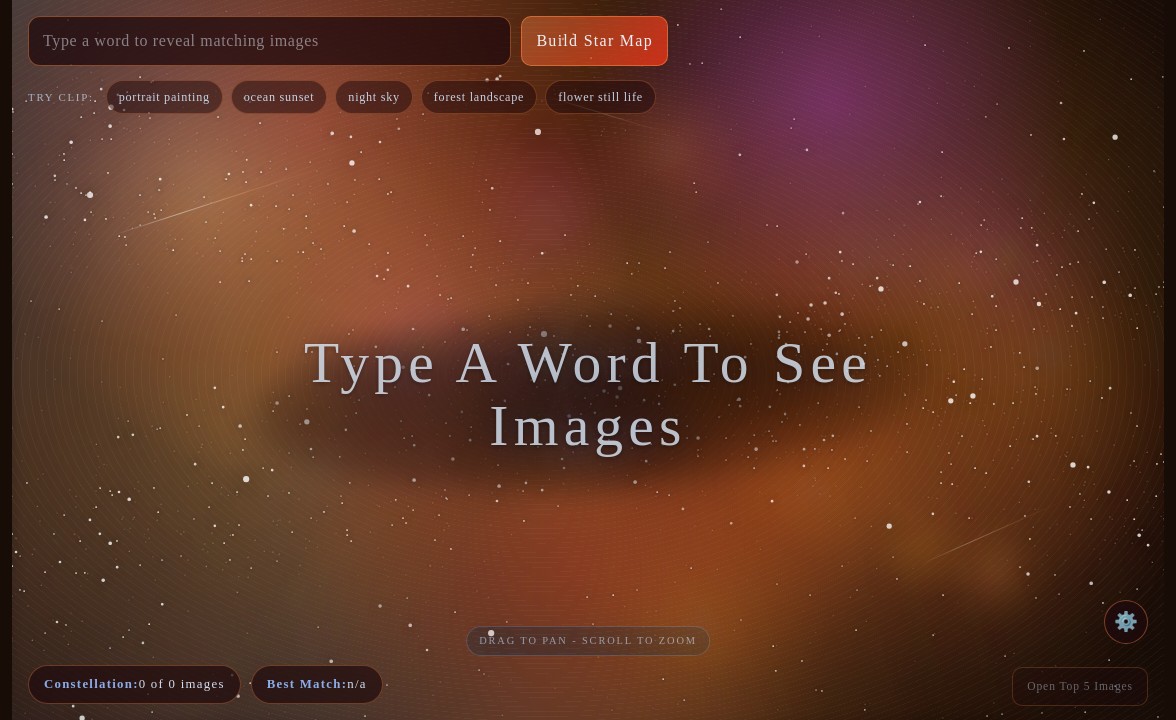
StarView weak-match notice › tells the user when nothing in the archive is close to the query
The image size is (1176, 720).
Type "a modern smartphone on a desk" into the field with placeholder "Type a word to reveal matching images" at (270, 41), box [28,16,511,66]
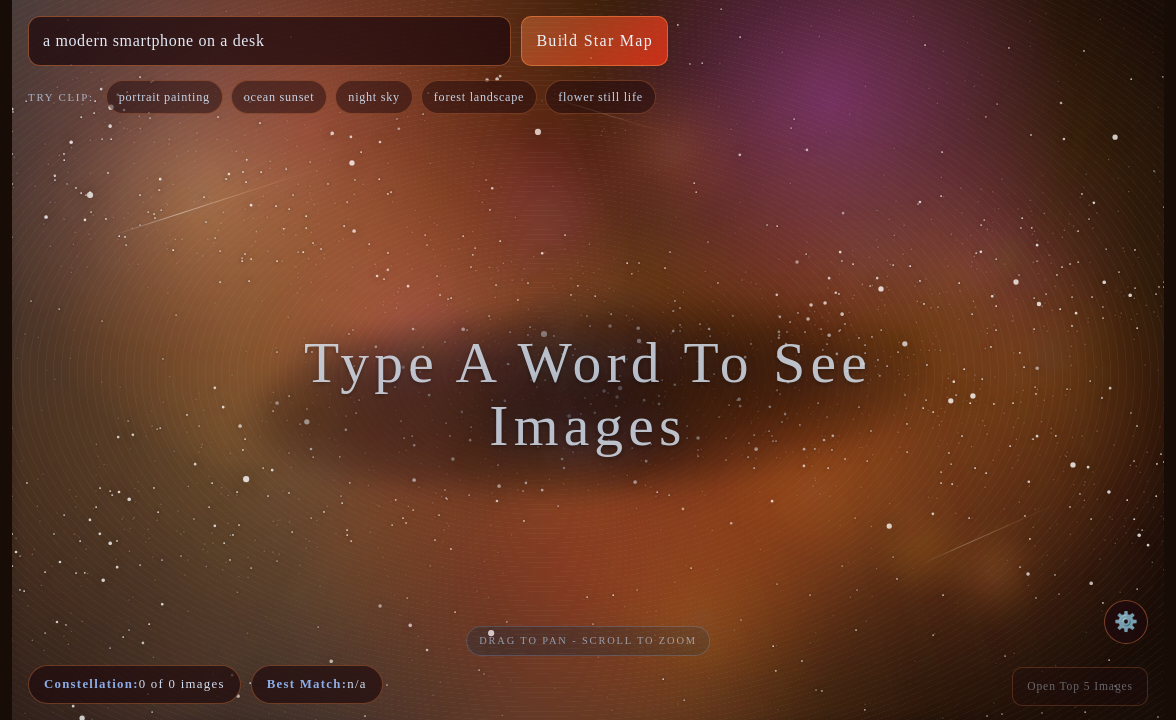
Click the button "Build Star Map" at (595, 41), box [521,16,668,66]
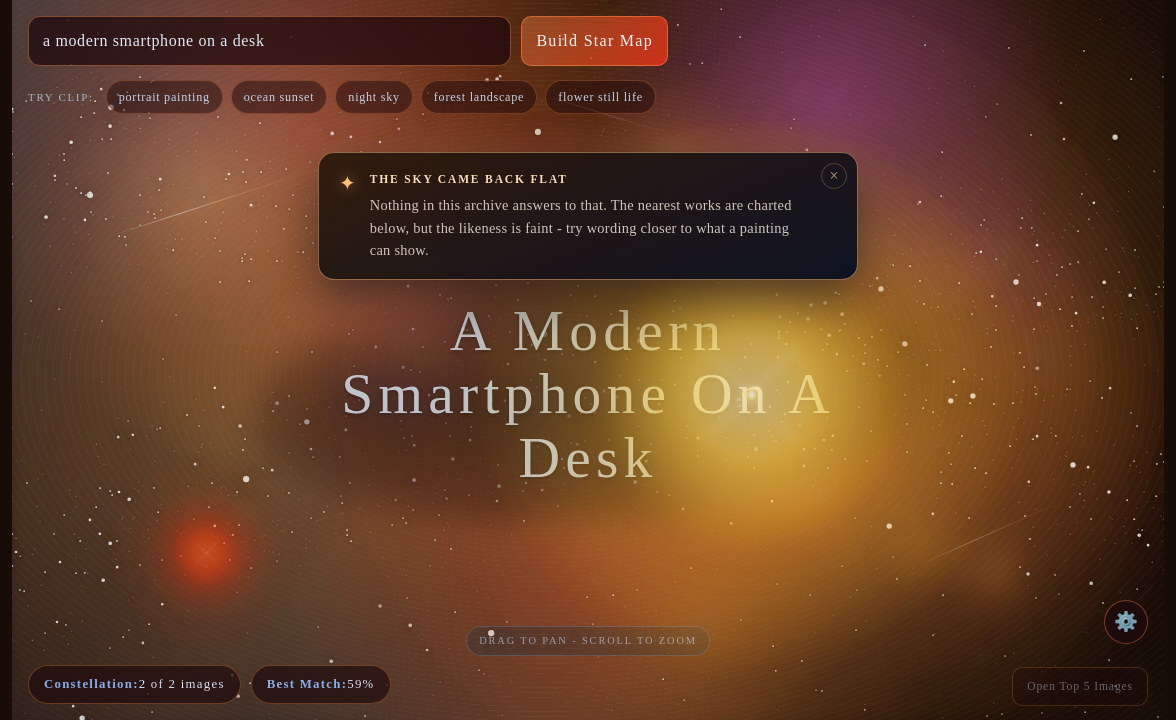
Check: the text "Nothing in this archive answers to that" is shown, box [370,197,792,258]
Check: the button titled "harbor-lights-01" is shown, box [738,381,764,407]
